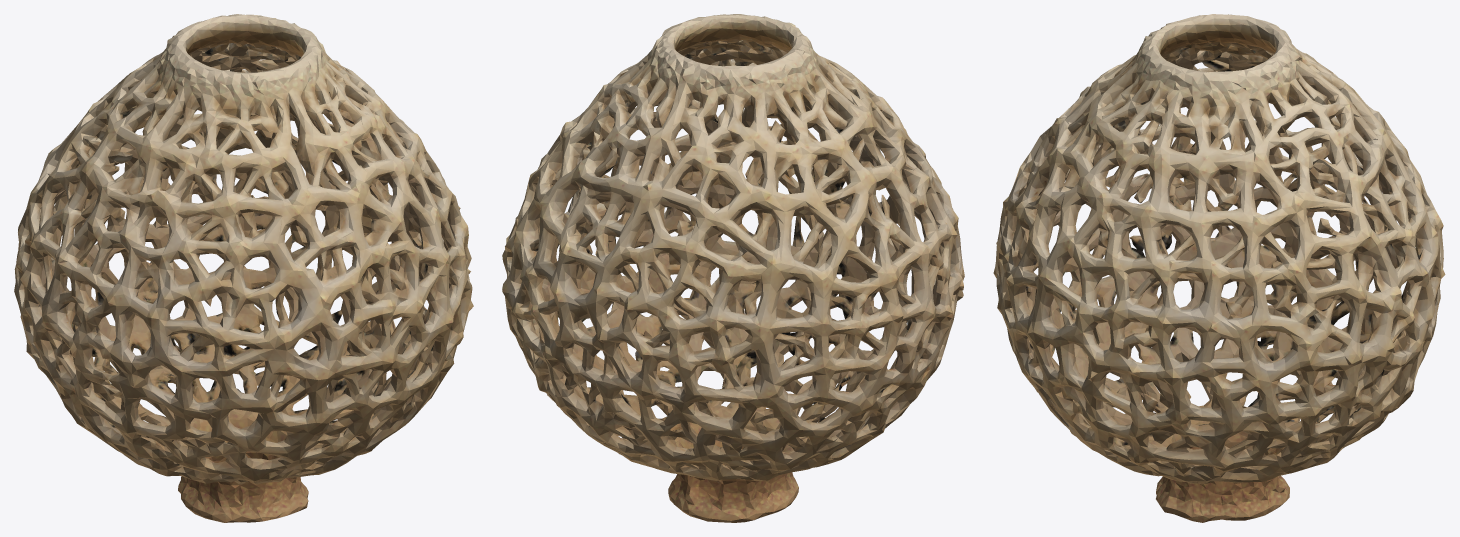
3 views of the same model, side by side, from view 1: azimuth 30°, elevation 25°; view 2: azimuth 150°, elevation 25°; view 3: azimuth 270°, elevation 25° (orthographic).
Visible parts, largest first — view 1: world; view 2: world; view 3: world.
Part boxes in pixels (bbox=[...]): world: bbox=[14, 14, 473, 522]; world: bbox=[502, 14, 964, 522]; world: bbox=[993, 14, 1445, 522].
Size of the model in its own units: 0.0272 by 0.0302 by 0.027.
Materials: 1 (1 with a texture image).
